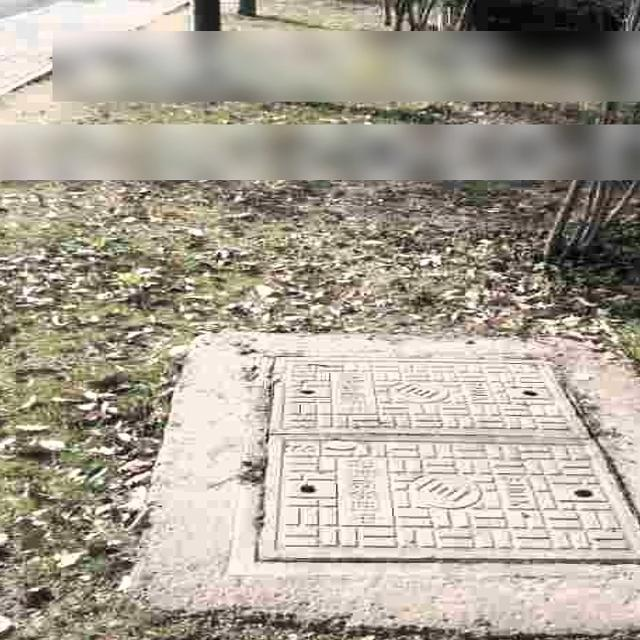good: (226, 350, 640, 577)
